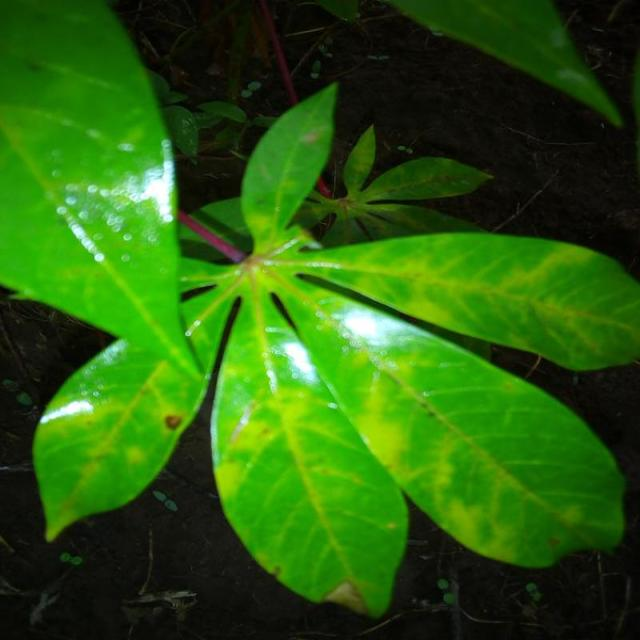cassava leaf: (1, 2, 638, 619), (0, 0, 207, 542), (208, 270, 410, 619)
